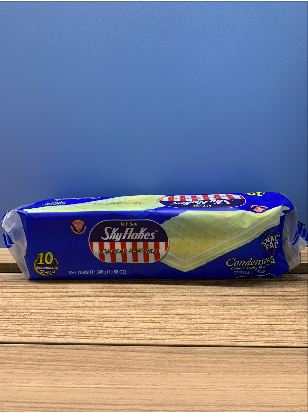Crackers_300-399g: (28, 195, 291, 277)
